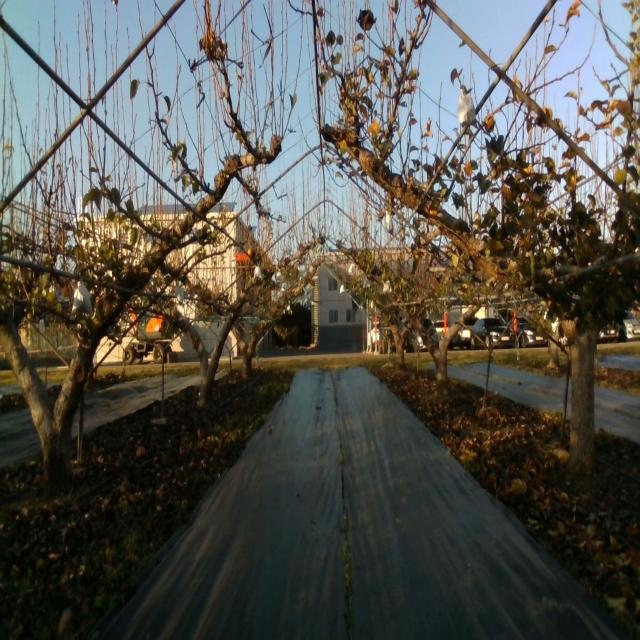pearbags: (457, 88, 477, 129), (71, 283, 94, 318)
